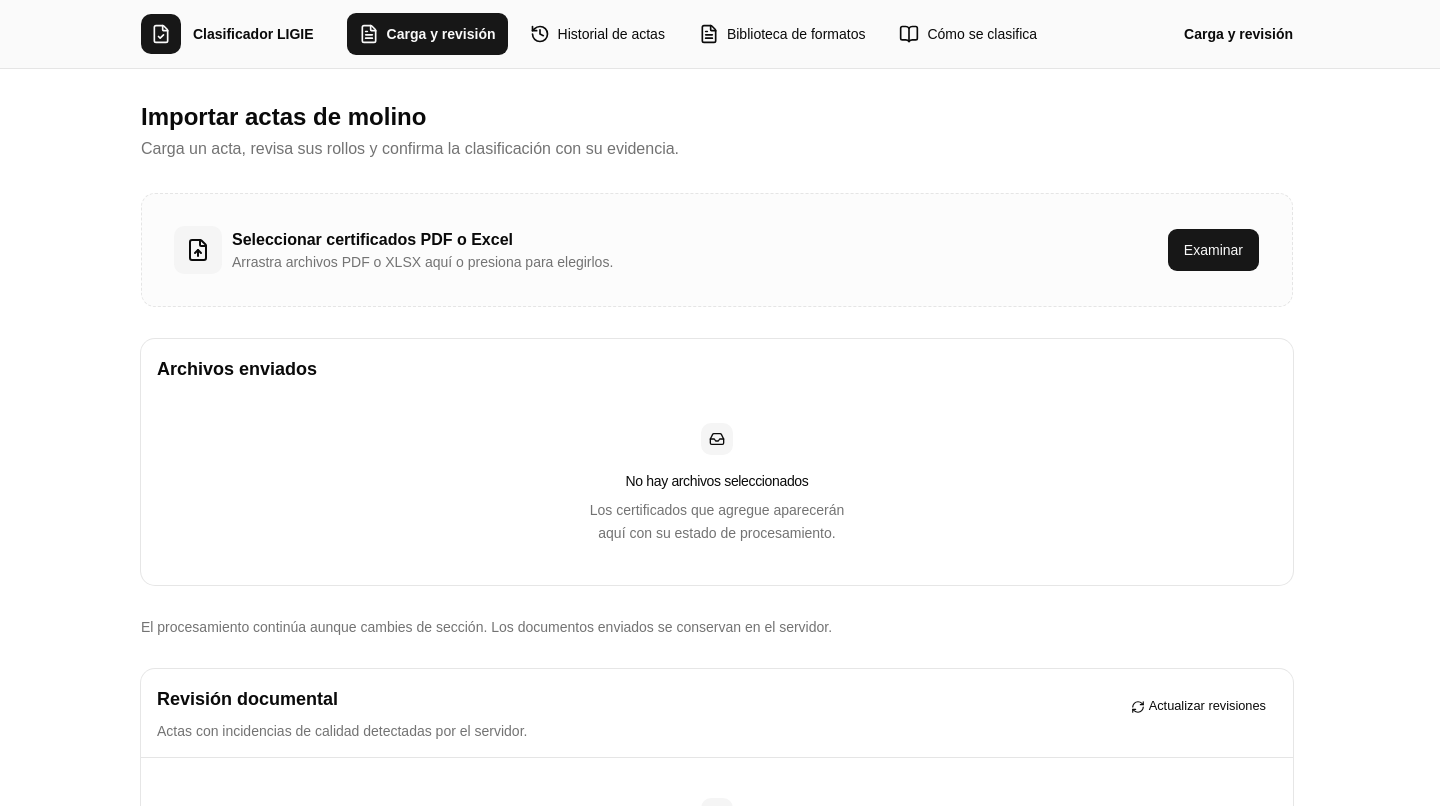
Test case: Actas guardadas › permite reintentar un error y recorrer las páginas
Click the button "Historial de actas" at [597, 34], box 516,12 -> 678,56
(page scrolled)
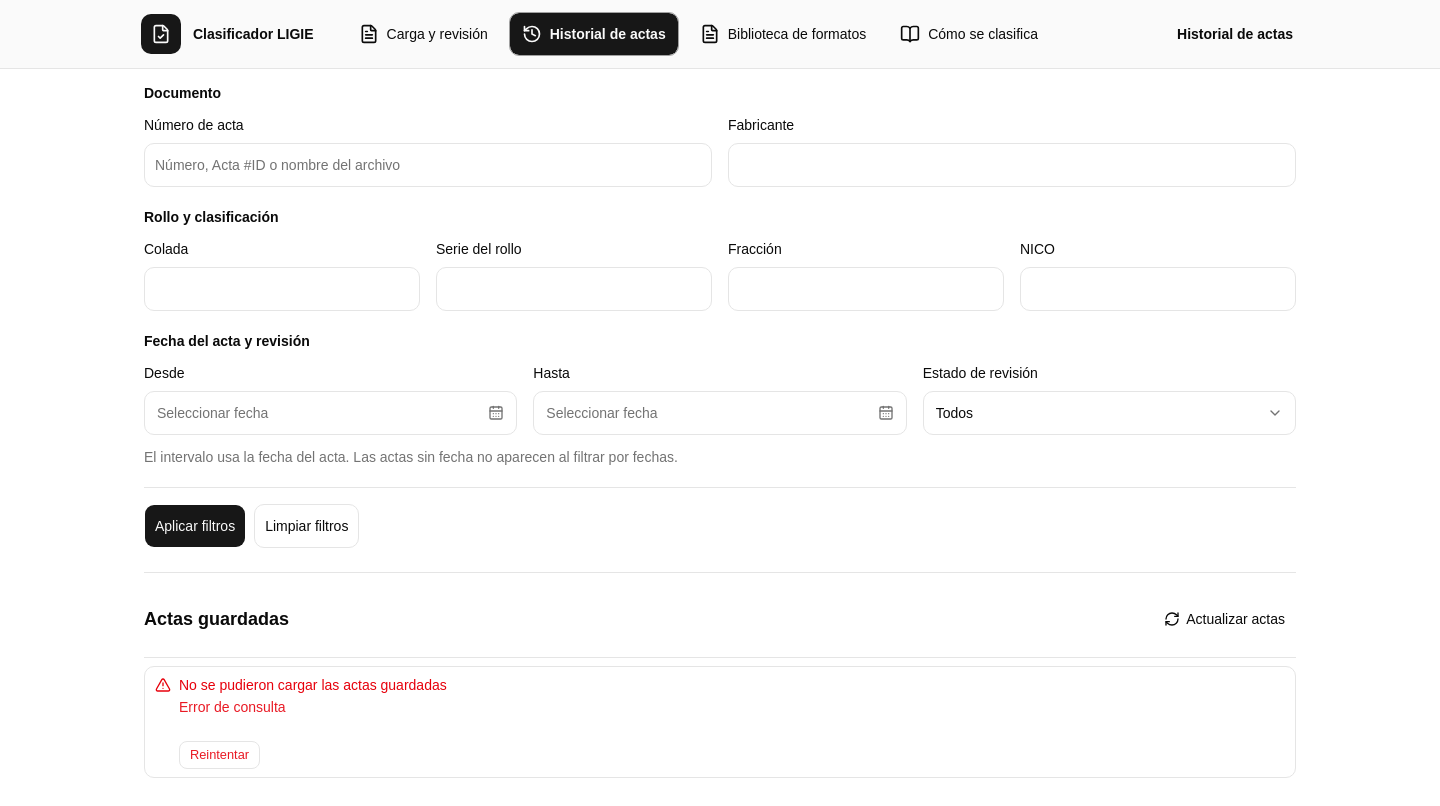
Click the button "Reintentar" at [220, 755], box 179,741 -> 260,769
(page scrolled)
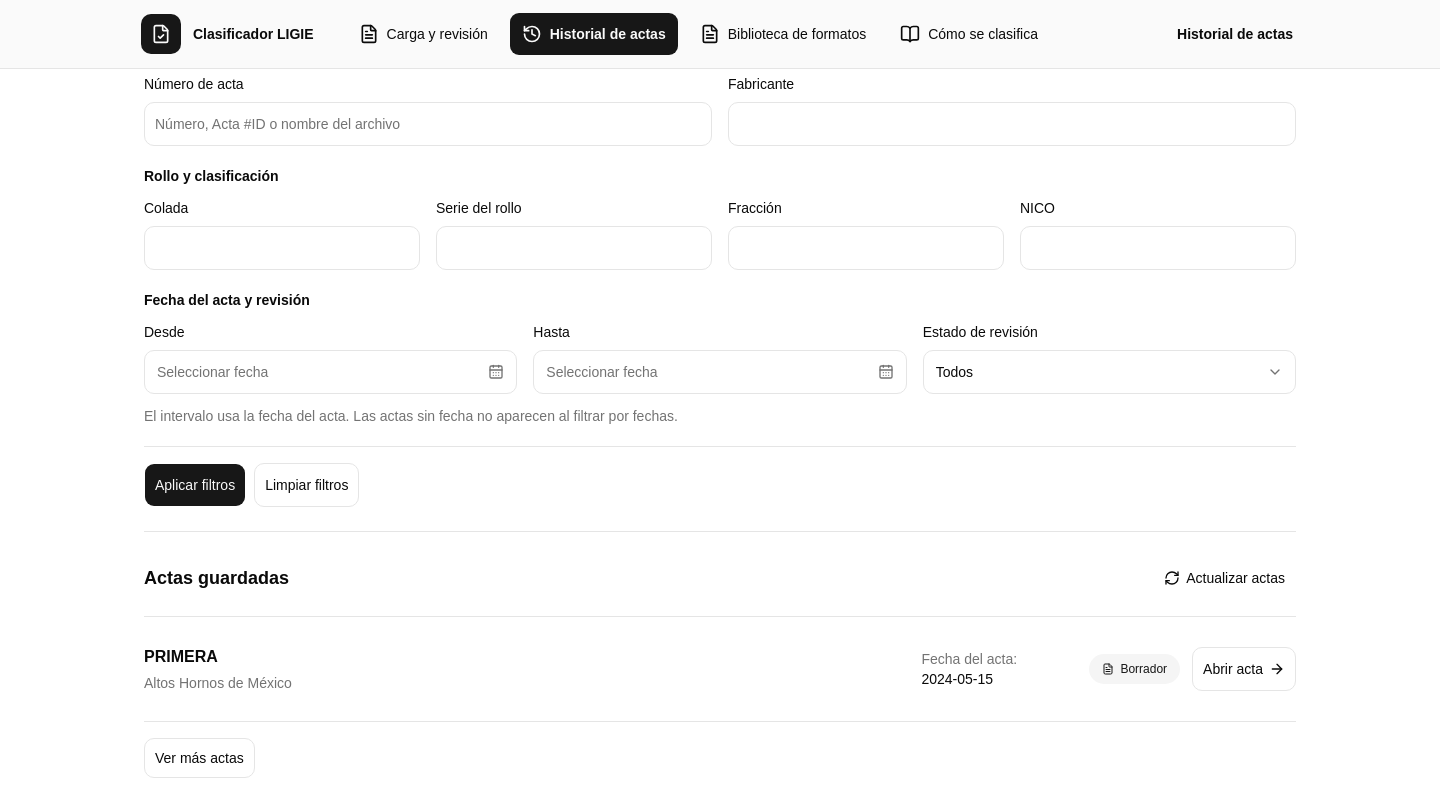
expect the heading "PRIMERA" is shown: met, box 144,648 -> 218,665
Click the button "Ver más actas" at [199, 758], box 144,738 -> 255,778
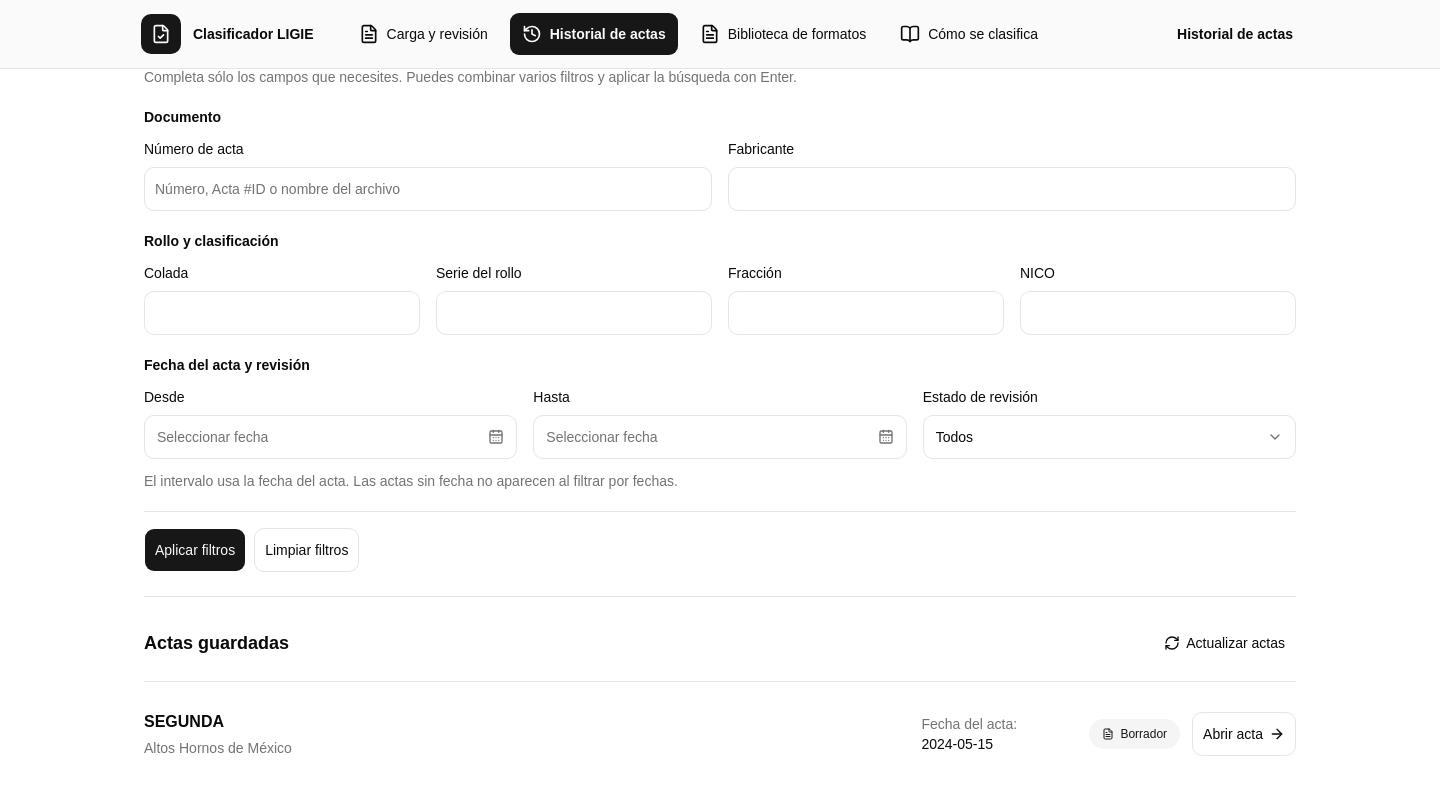
expect the heading "SEGUNDA" is shown: met, box 144,713 -> 224,730
